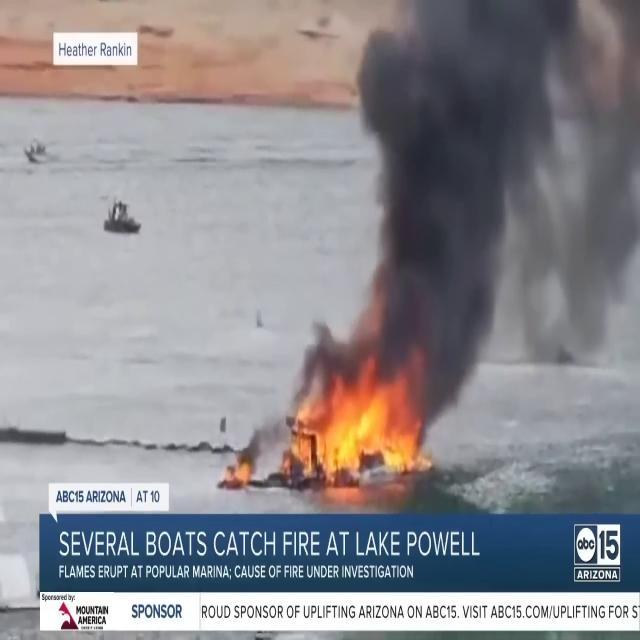Fire: (281, 367, 423, 487), (220, 450, 258, 488)
Smoke: (330, 1, 640, 390)
